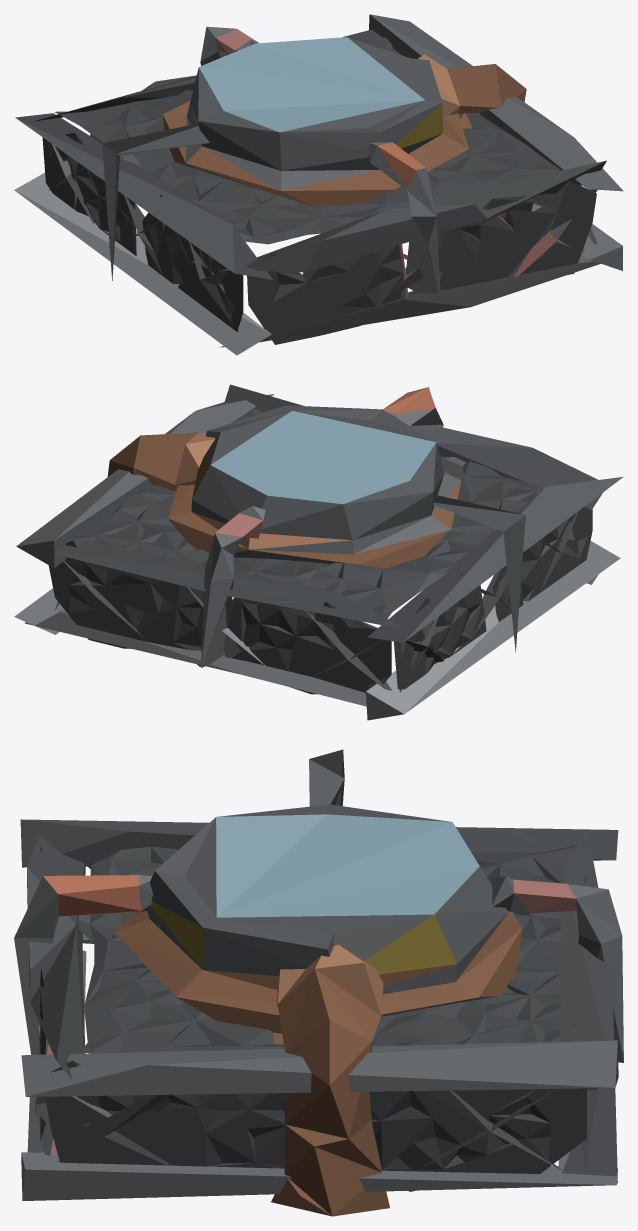
Rendered from frostp_portal.glb.
3 views of the same model, one above another, from view 1: azimuth 30°, elevation 25°; view 2: azimuth 150°, elevation 25°; view 3: azimuth 270°, elevation 25° (orthographic). The views are drawn at different scales.
Visible parts, largest first — view 1: estructura.portal.frostp_portal; view 2: estructura.portal.frostp_portal; view 3: estructura.portal.frostp_portal.
Part boxes in pixels (left/top/right/bottom): estructura.portal.frostp_portal: left=14, top=14, right=623, bottom=355; estructura.portal.frostp_portal: left=14, top=384, right=623, bottom=720; estructura.portal.frostp_portal: left=14, top=749, right=623, bottom=1216.
Size of the model in its own units: 2.21 by 0.8068 by 2.01.
